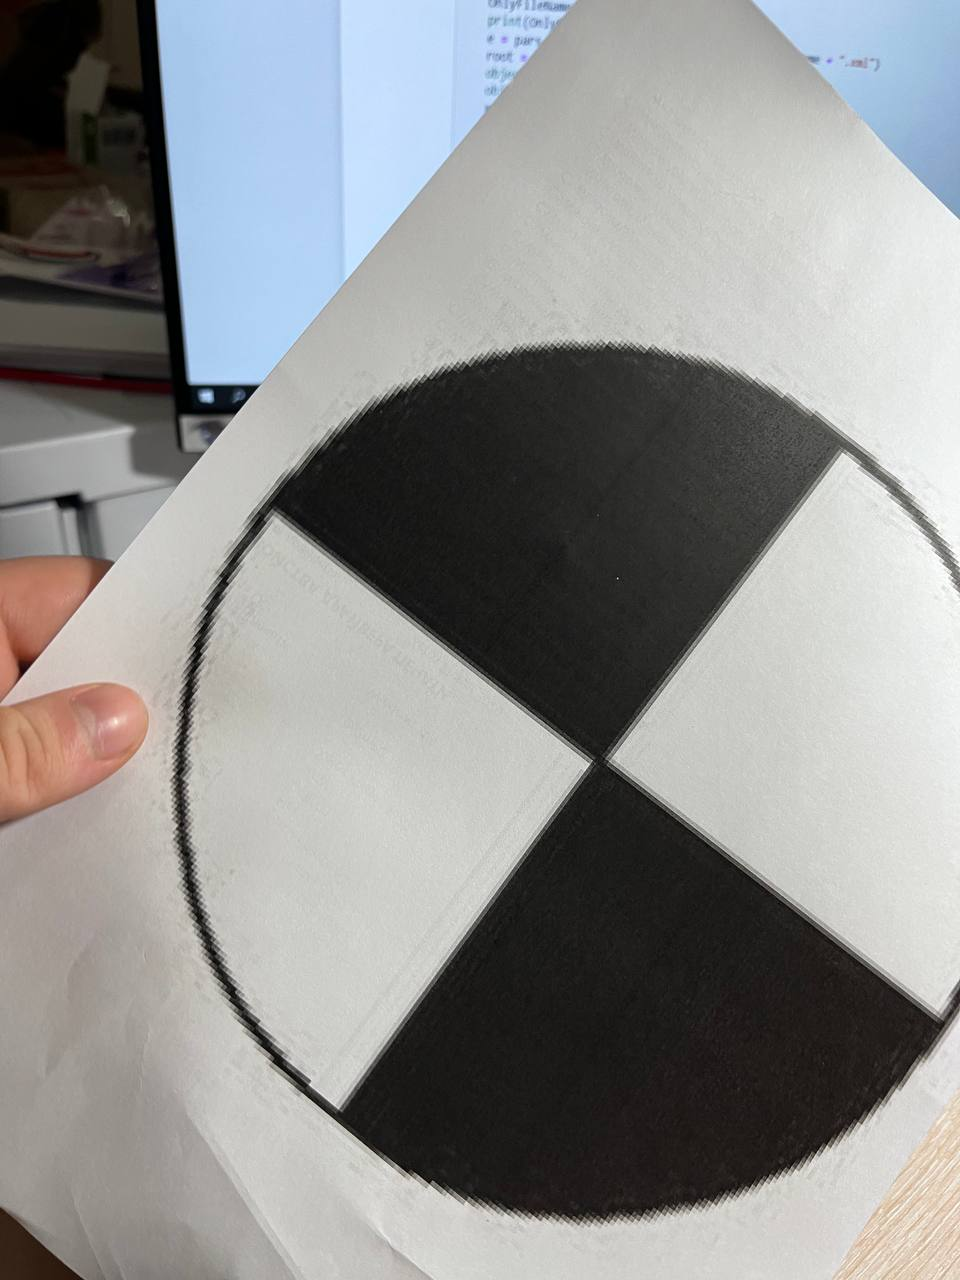pattern: (173, 344, 960, 1217)
